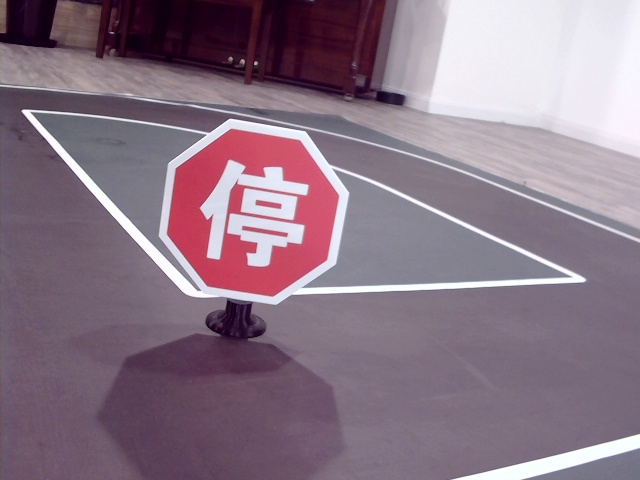stop: (200, 154, 305, 269)
